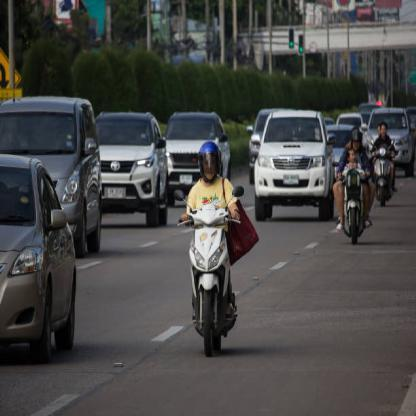Motorcycle: (176, 199, 244, 354)
